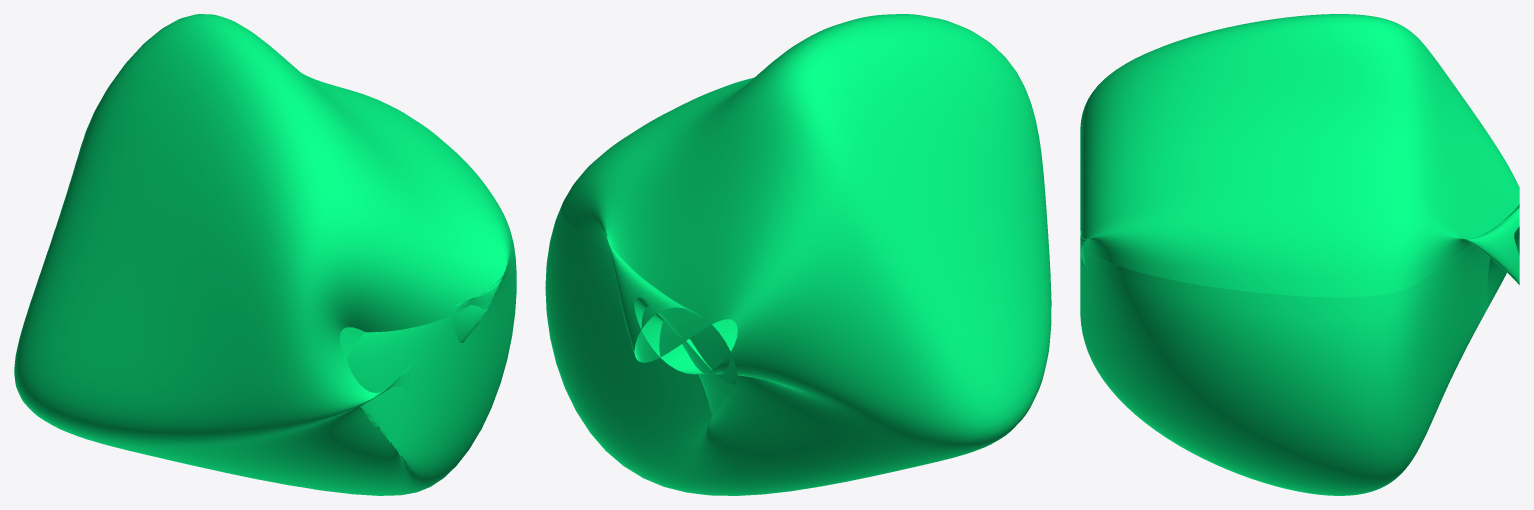
Rendered from e6_lattice_ar_universal.glb.
The picture shows the model from 3 angles, left to right: view 1: azimuth 30°, elevation 25°; view 2: azimuth 150°, elevation 25°; view 3: azimuth 270°, elevation 25°; orthographic projection. The views are drawn at different scales.
Parts seen in each view (by area): view 1: e6_lattice_ar; view 2: e6_lattice_ar; view 3: e6_lattice_ar.
Boxes of the visible parts, <box> form: e6_lattice_ar: <box>14,14,516,495</box>; e6_lattice_ar: <box>545,14,1051,495</box>; e6_lattice_ar: <box>1080,14,1519,495</box>.
Size of the model in its own units: 1 by 0.9742 by 0.9418.
